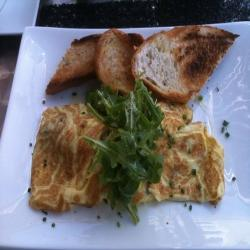bread: (50, 24, 239, 102)
omelette: (25, 94, 239, 217)
salad: (90, 93, 168, 232)
